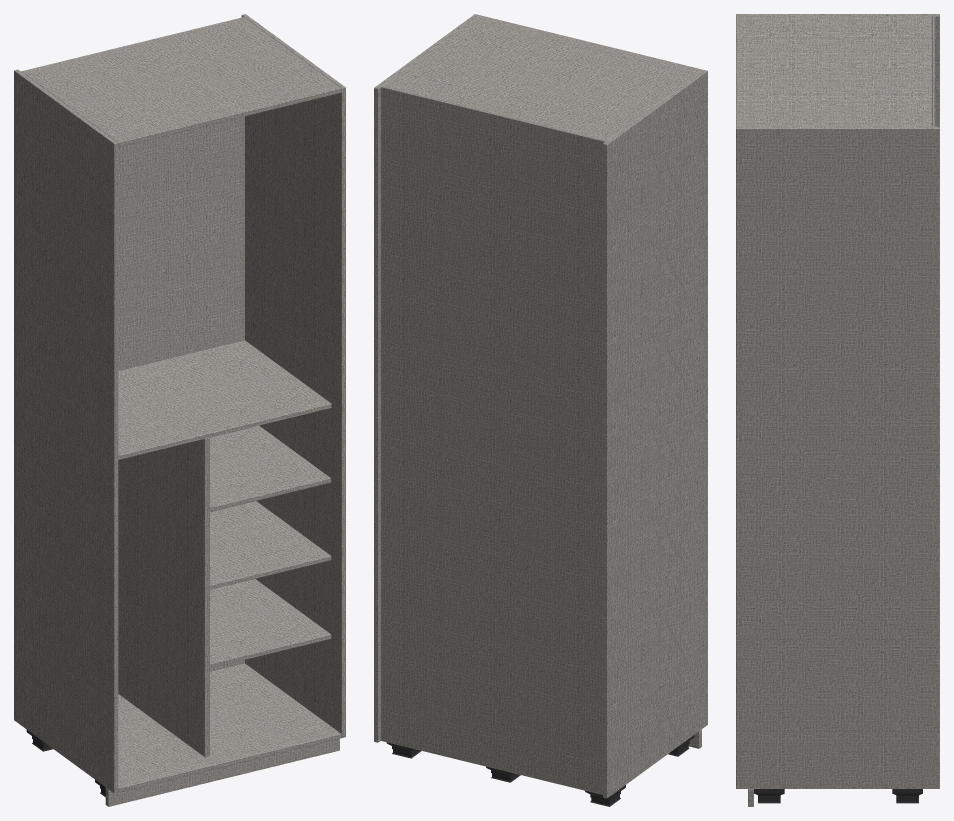
File: cbib12149.gltf
The picture shows the model from 3 angles, left to right: view 1: azimuth 30°, elevation 25°; view 2: azimuth 150°, elevation 25°; view 3: azimuth 270°, elevation 25°; orthographic projection.
Visible parts, largest first — view 1: CBIB12149; view 2: CBIB12149; view 3: CBIB12149.
Part boxes in pixels (x1,y1,x2,y2): CBIB12149: [14, 14, 345, 806]; CBIB12149: [374, 14, 707, 806]; CBIB12149: [736, 14, 939, 806].
Size of the model in its own units: 0.8 by 2.2 by 0.6.
Materials: 3 (2 with a texture image).
